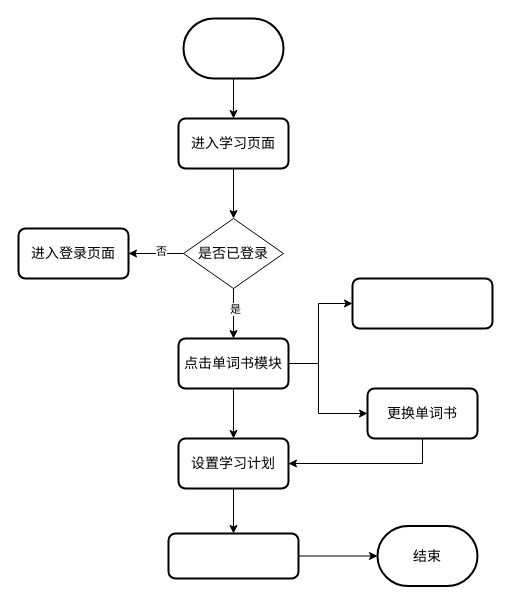
This 510x604 diagram has some shape labels left out. Here are the shapes that lost their labels. From the top down, the centre of each, then its label:
At (233,48): "开始".
At (422,303): "查看单词书单词列表".
At (233,555): "显示预计完成时间".
